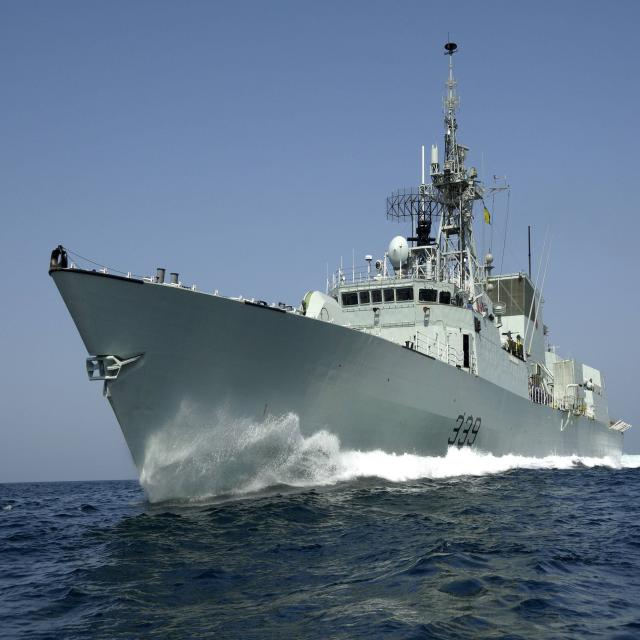navalvessels: (44, 31, 629, 484)
